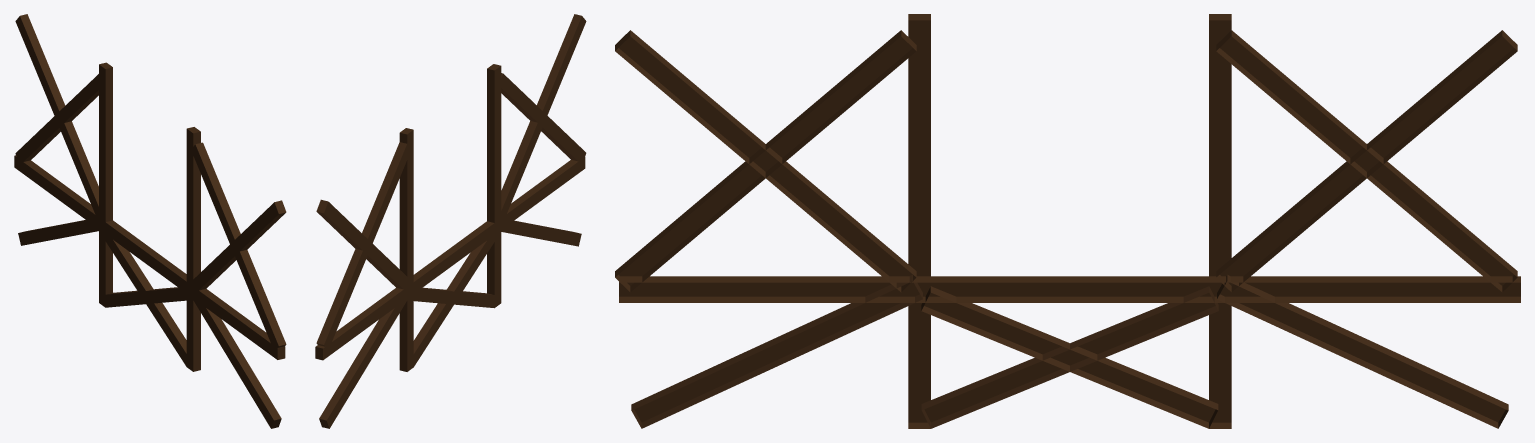
The model's file is Small Side 2.fbx.
The picture shows the model from 3 angles, left to right: view 1: azimuth 30°, elevation 25°; view 2: azimuth 150°, elevation 25°; view 3: azimuth 270°, elevation 25°; orthographic projection. The views are drawn at different scales.
Visible parts, largest first — view 1: House_Small_Side_2_pCube11; view 2: House_Small_Side_2_pCube11; view 3: House_Small_Side_2_pCube11.
Part boxes in pixels (x1,y1,x2,y2): House_Small_Side_2_pCube11: (14, 14, 286, 428); House_Small_Side_2_pCube11: (315, 14, 586, 428); House_Small_Side_2_pCube11: (615, 14, 1520, 428).
Size of the model in its own units: 0.1 by 3 by 6.03.
